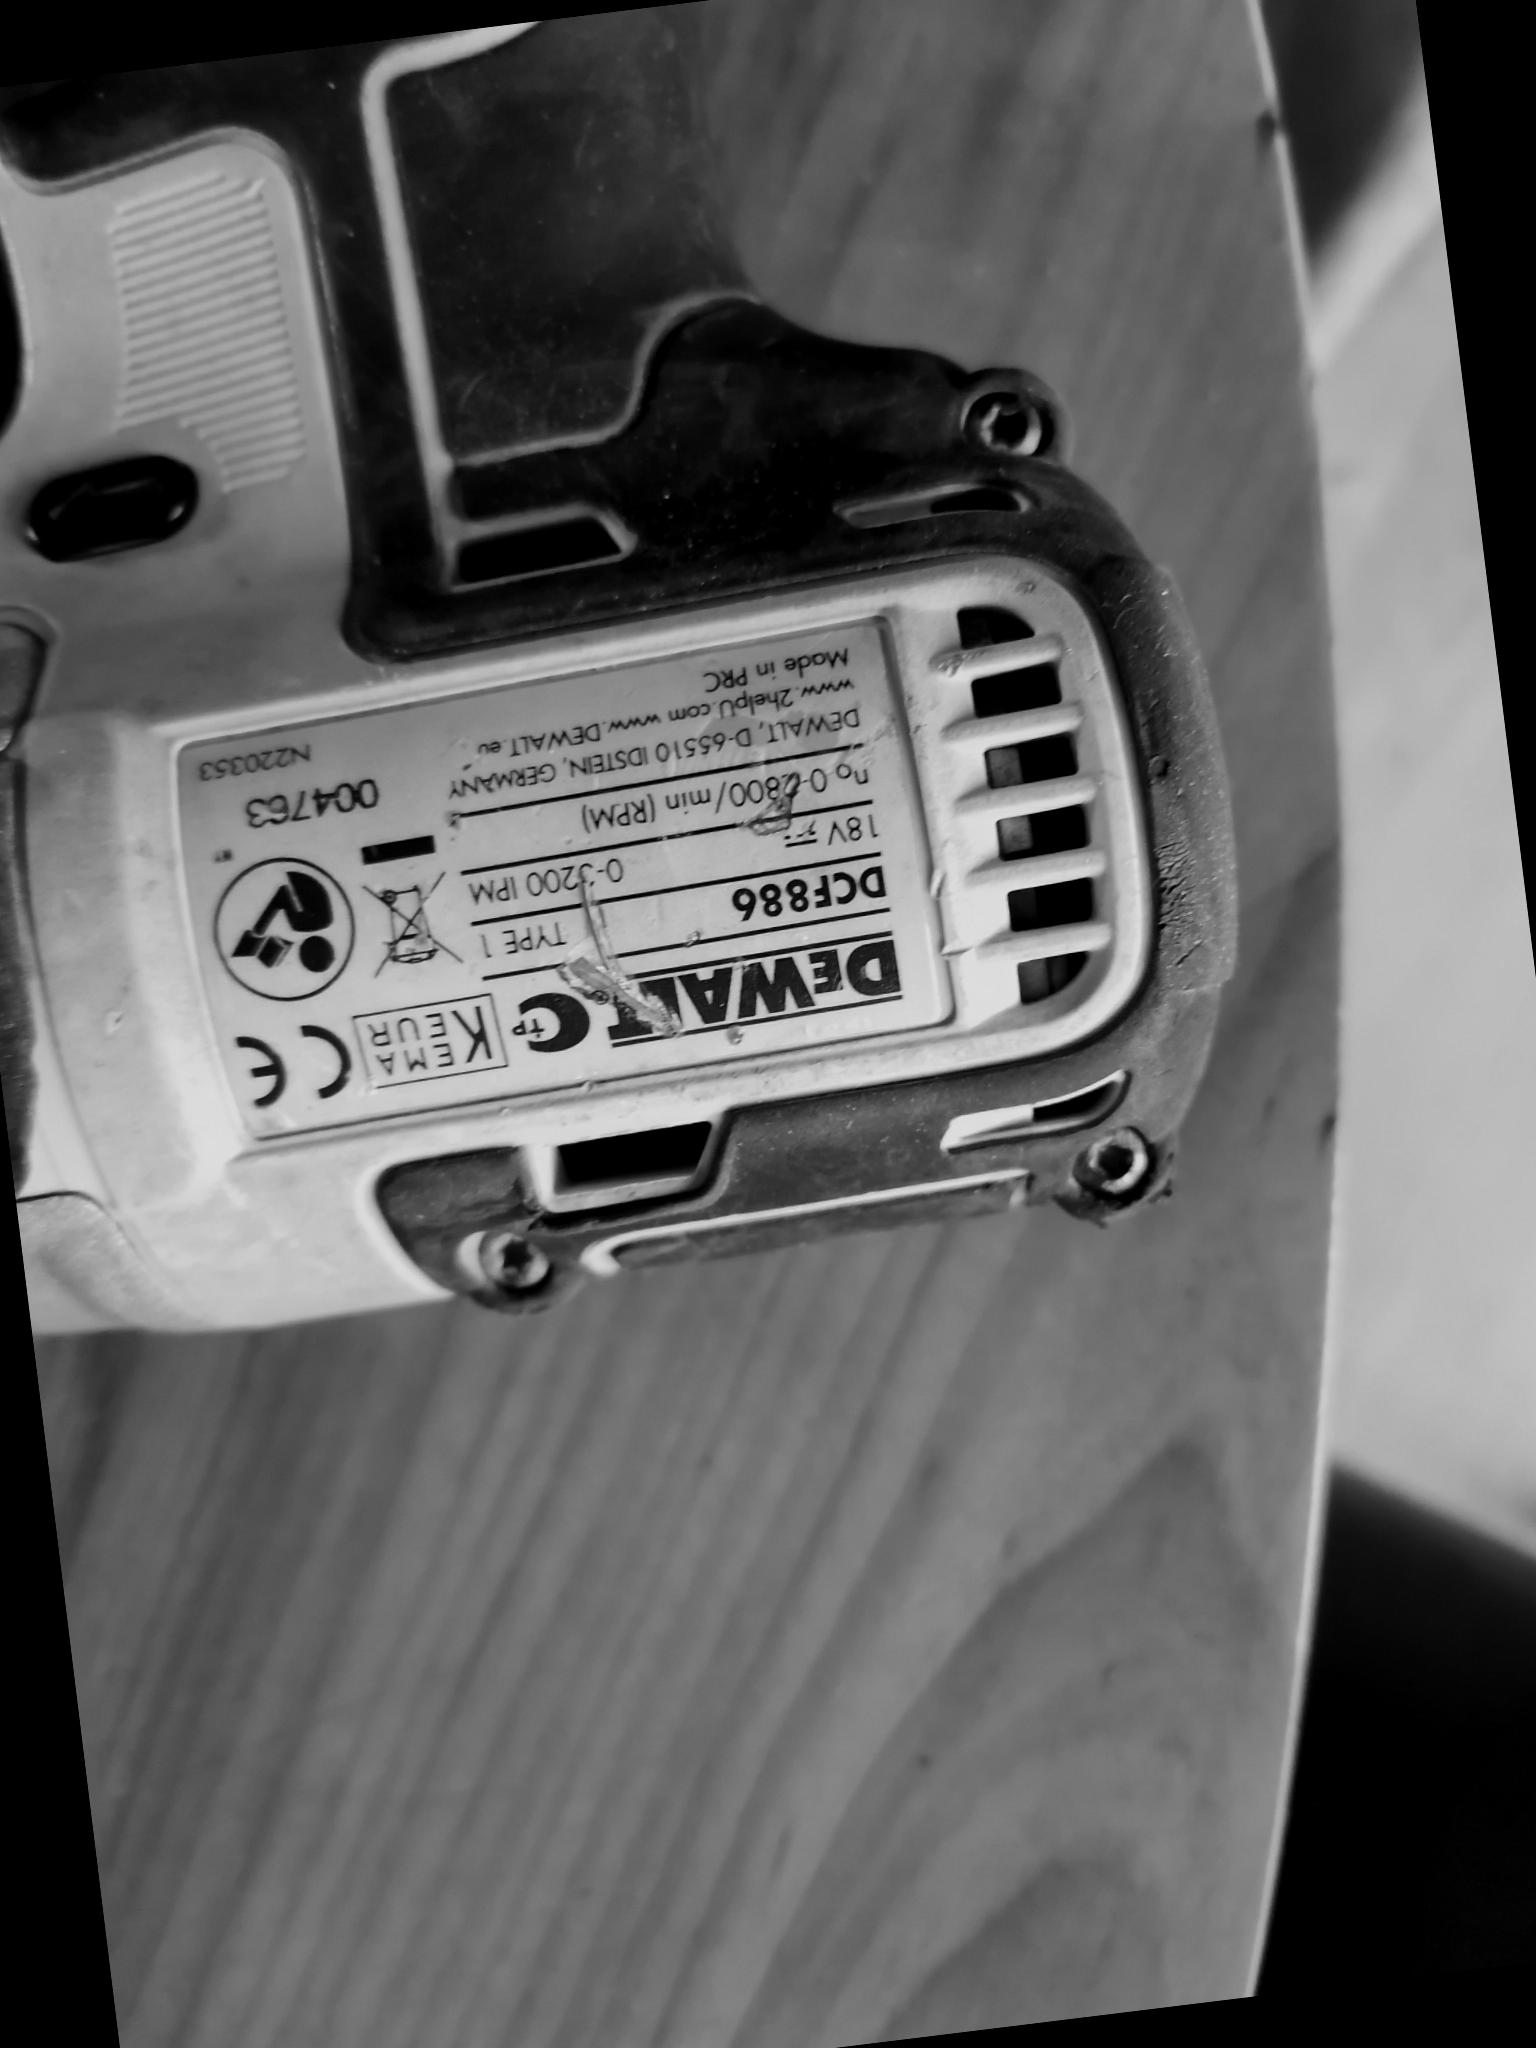screw: (955, 379, 1062, 476), (465, 1211, 558, 1301), (1071, 1119, 1163, 1203)
